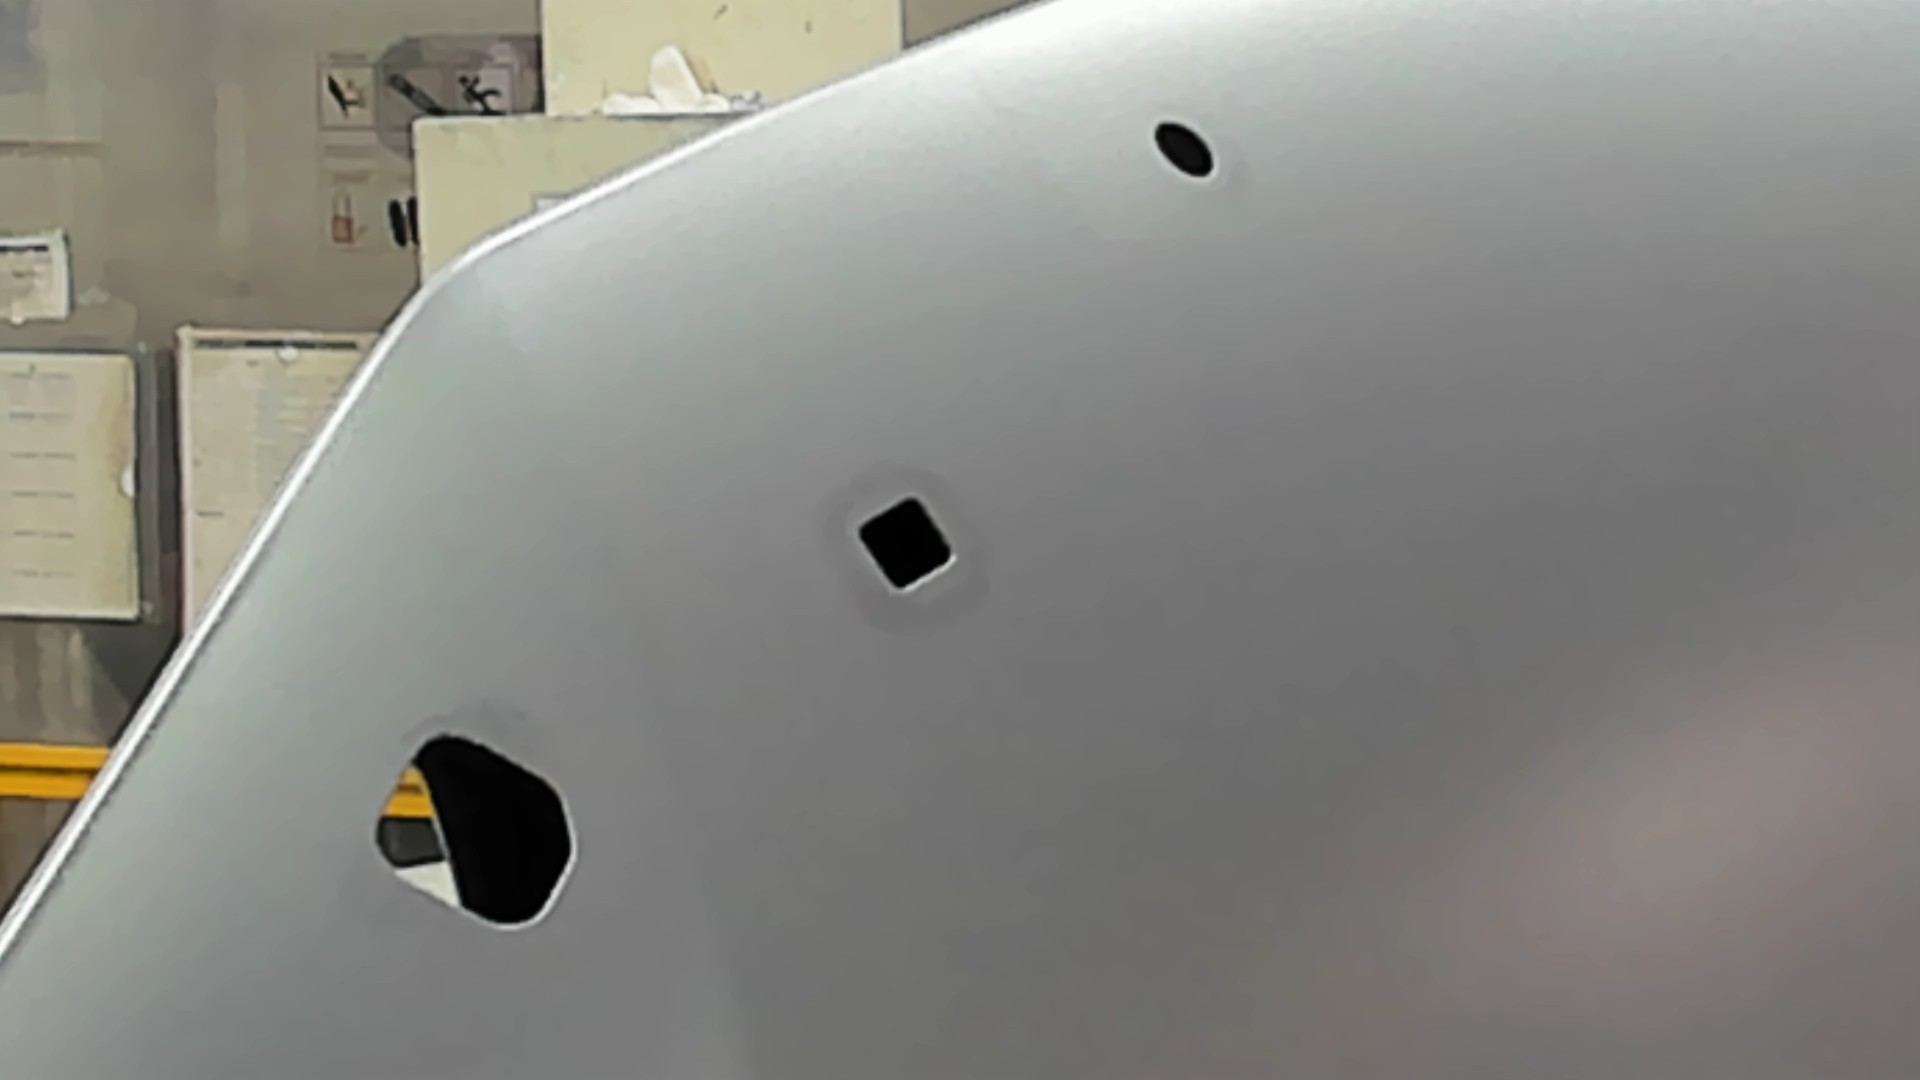chico: (1150, 115, 1222, 183)
grande: (365, 728, 585, 938)
mediano: (851, 487, 959, 601)
